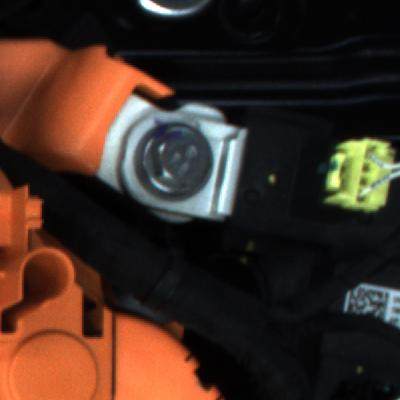nut_b: (126, 113, 226, 199)
